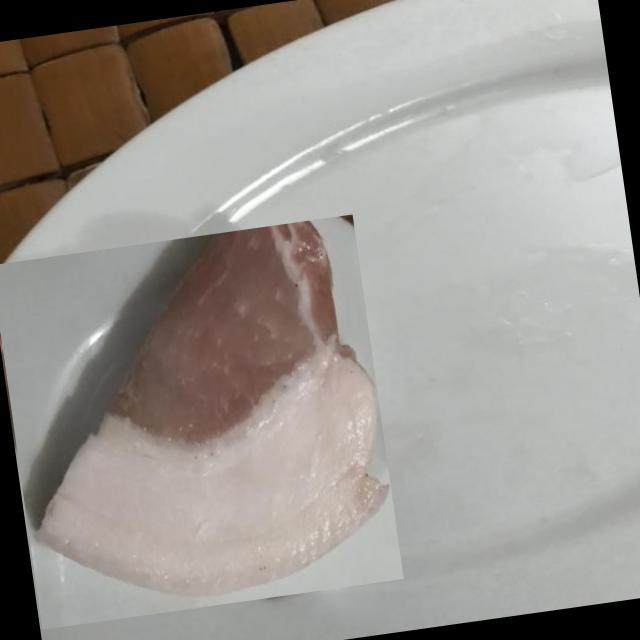chicken: (0, 215, 404, 630)
